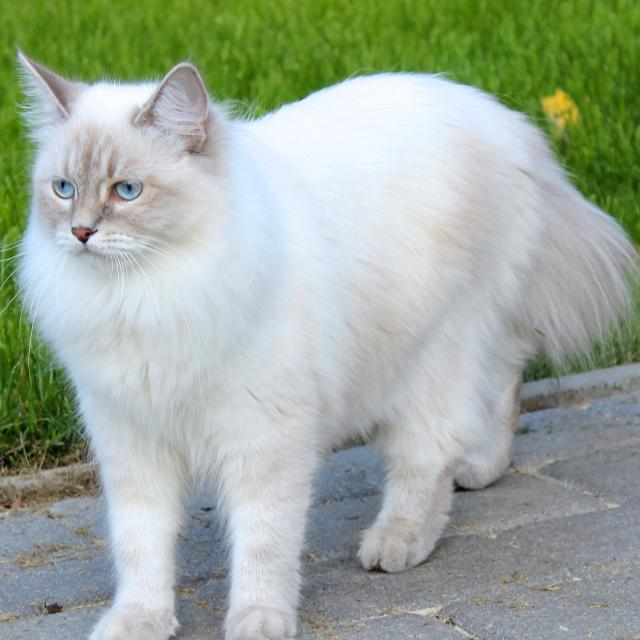Neva Masquerade: (5, 41, 640, 640)
